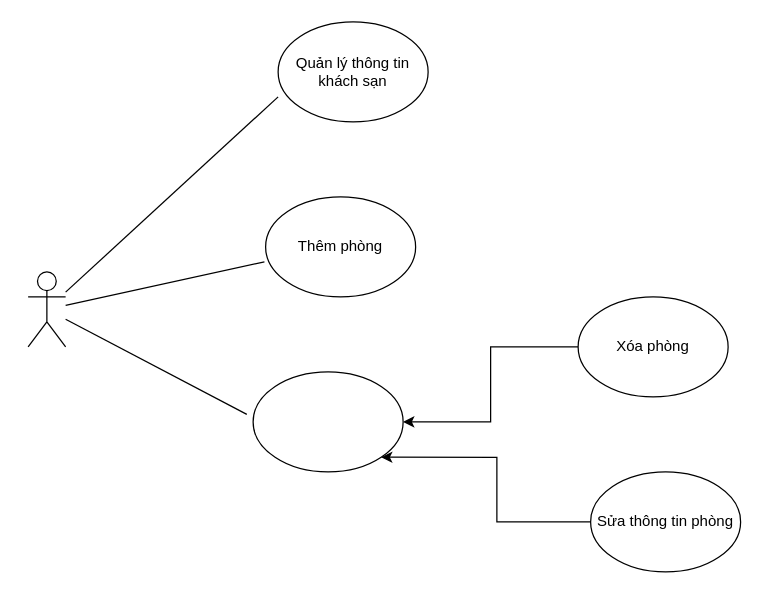
Image size: 763x594. Some labels were removed from this diagram. The shapes that lost their labels are listed below. From the top down, each one's centre as x and y in pixels, then its label:
the point at 46,309: Quản lý
the point at 327,421: Quản lý phòng
